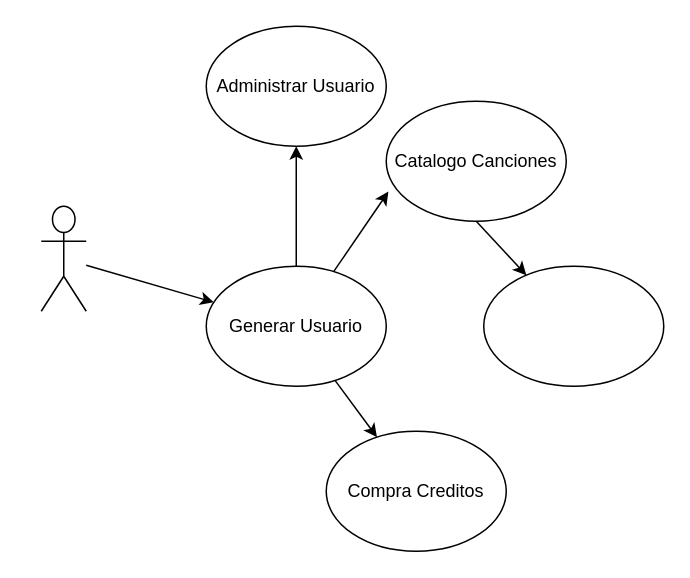
The diagram is 690 pixels wide and 578 high, and some of its shapes have lost their labels. The box of each missing label's shape, as (x1, y1, x2, y2) in pixels:
CLIENTE: (40, 205, 86, 311)
Compra Canciones: (482, 265, 664, 386)
